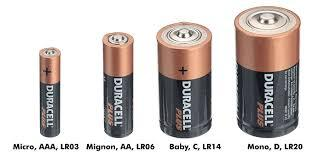AA: (101, 31, 134, 137)
AAA: (38, 46, 60, 137)
